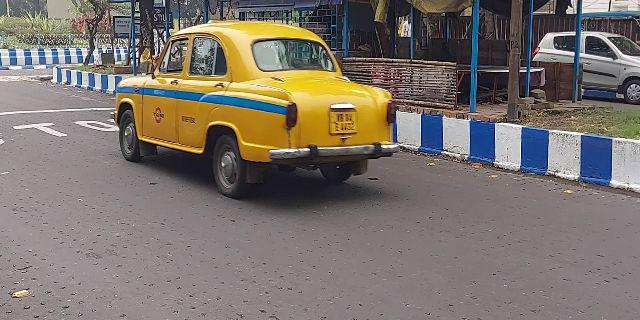Car: (115, 20, 404, 195)
